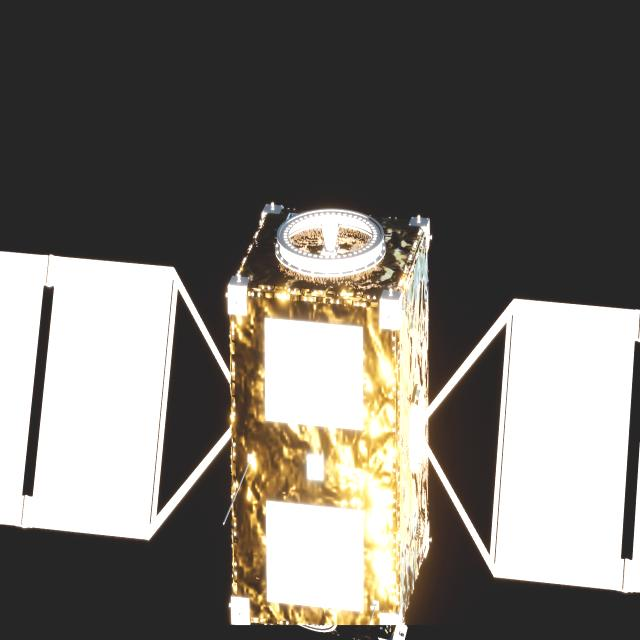medium_debris: (0, 203, 640, 631)
